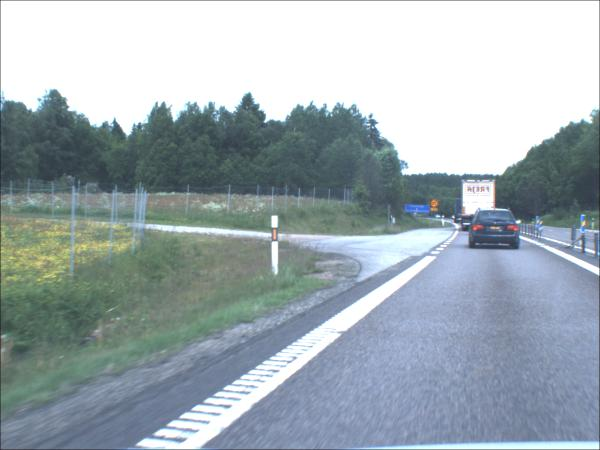70_SIGN: (430, 201, 438, 209)
